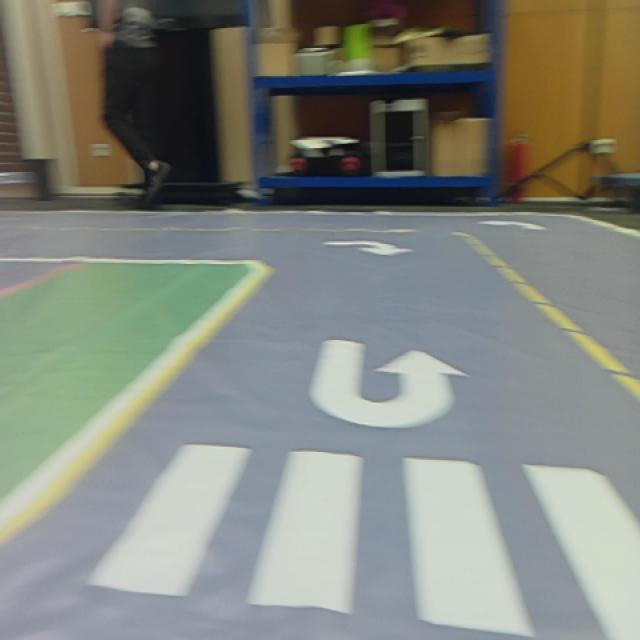left_lane: (2, 278, 265, 548)
right_lane: (466, 234, 640, 407)
